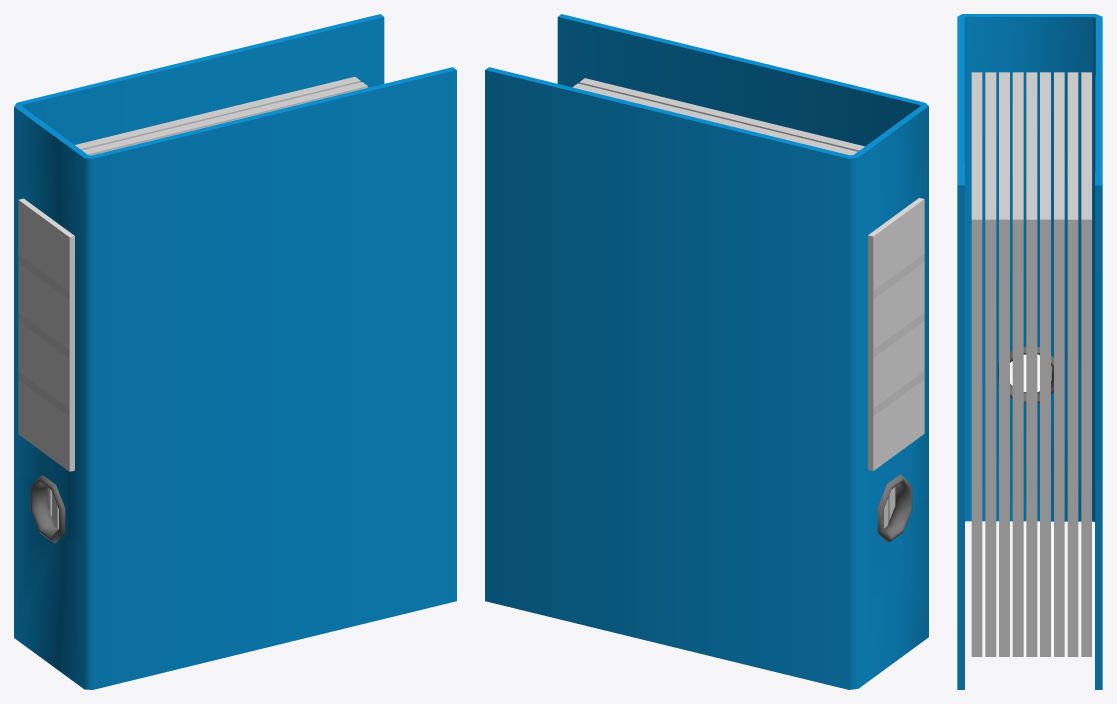
3 renders of one model, left to right at view 1: azimuth 30°, elevation 25°; view 2: azimuth 150°, elevation 25°; view 3: azimuth 270°, elevation 25°, orthographic. The views are drawn at different scales.
Parts seen in each view (by area): view 1: File01; view 2: File01; view 3: File01.
Boxes of the visible parts, x1=… form: File01: x1=14, y1=14, x2=456, y2=689; File01: x1=485, y1=14, x2=928, y2=689; File01: x1=957, y1=14, x2=1102, y2=689.
Size of the model in its own units: 0.2744 by 0.0968 by 0.3713.
